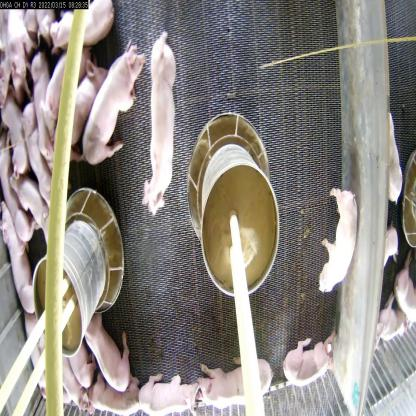Pig: (82, 40, 144, 173), (144, 36, 184, 207), (47, 70, 111, 162), (198, 344, 276, 415), (49, 0, 117, 63), (82, 312, 134, 390), (282, 323, 333, 392), (319, 182, 354, 282), (19, 105, 55, 193), (138, 367, 203, 415), (2, 209, 30, 318), (82, 371, 136, 415)
